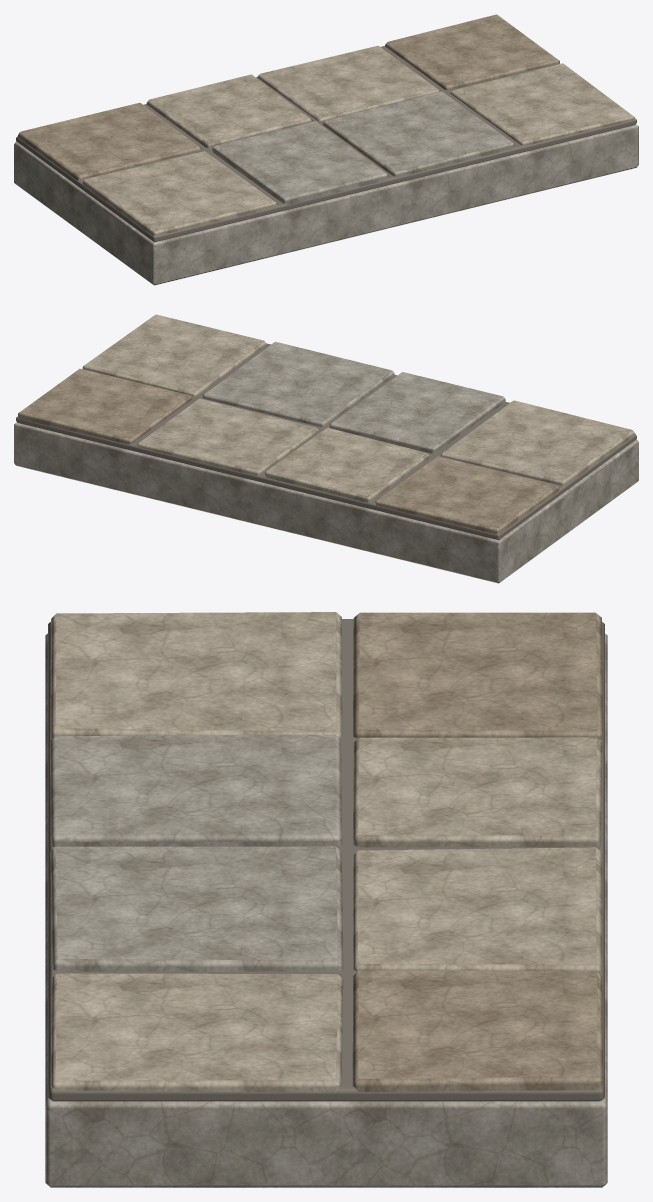
File: Stone_Slab_4m.glb
3 renders of one model, top to bottom at view 1: azimuth 30°, elevation 25°; view 2: azimuth 150°, elevation 25°; view 3: azimuth 270°, elevation 25°, orthographic. The views are drawn at different scales.
Parts seen in each view (by area): view 1: Stone_Slab_4m; view 2: Stone_Slab_4m; view 3: Stone_Slab_4m.
Part boxes in pixels (left/top/right/bottom): Stone_Slab_4m: left=14, top=14, right=638, bottom=285; Stone_Slab_4m: left=14, top=314, right=638, bottom=583; Stone_Slab_4m: left=45, top=612, right=607, bottom=1187.
Bounding box in the file's own units: 4 × 0.4357 × 2.
Materials: 4 (3 with a texture image).
